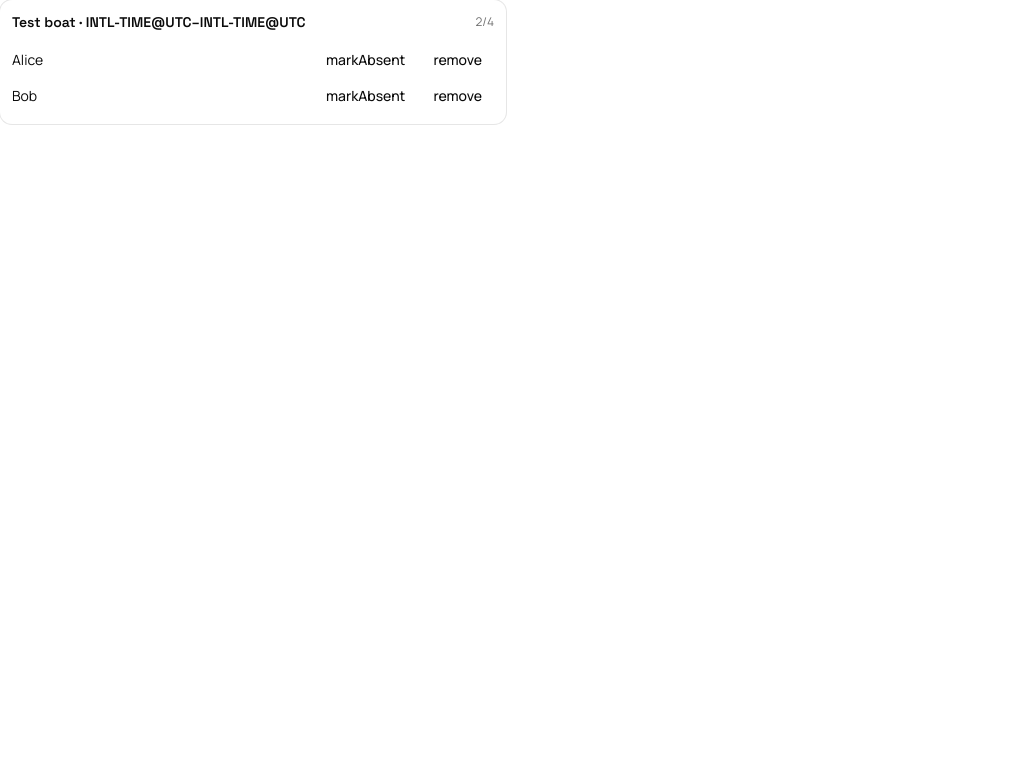
Test: BookingsRoster remove flow › keeps the removed row mounted (fade in place, not optimistic removal) while the removal is in flight
Click the button "remove" in the row of "Alice" at (458, 60), box [421,44,494,76]
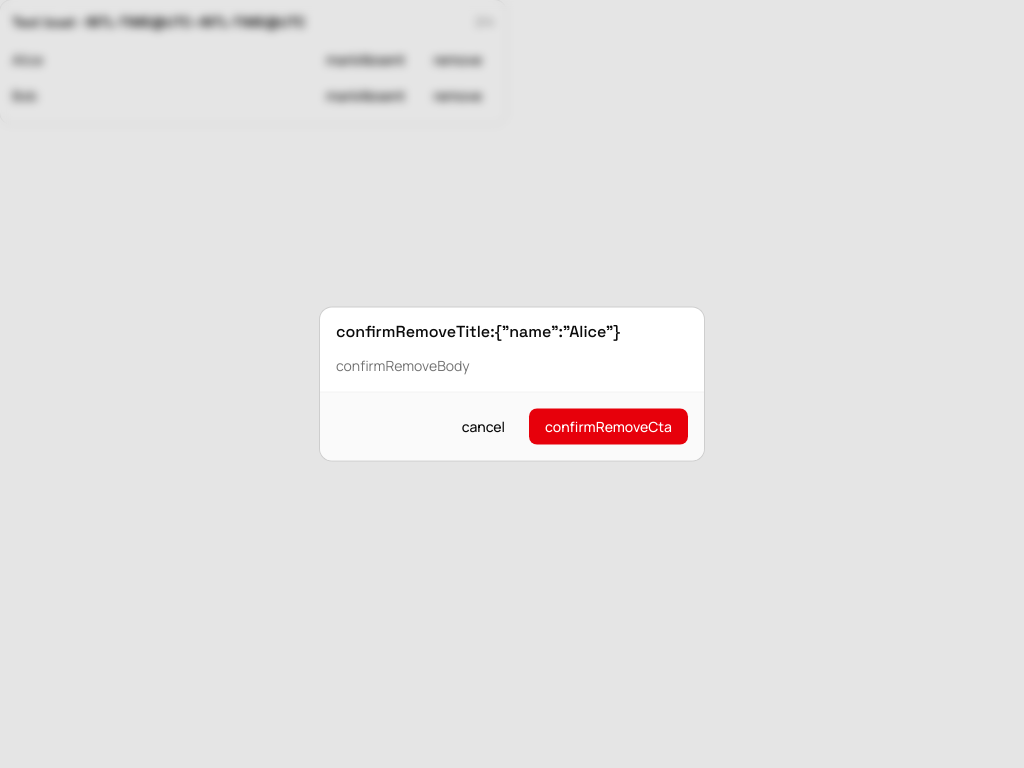
Submit the form "confirmRemoveCta", box [336,324,688,444]
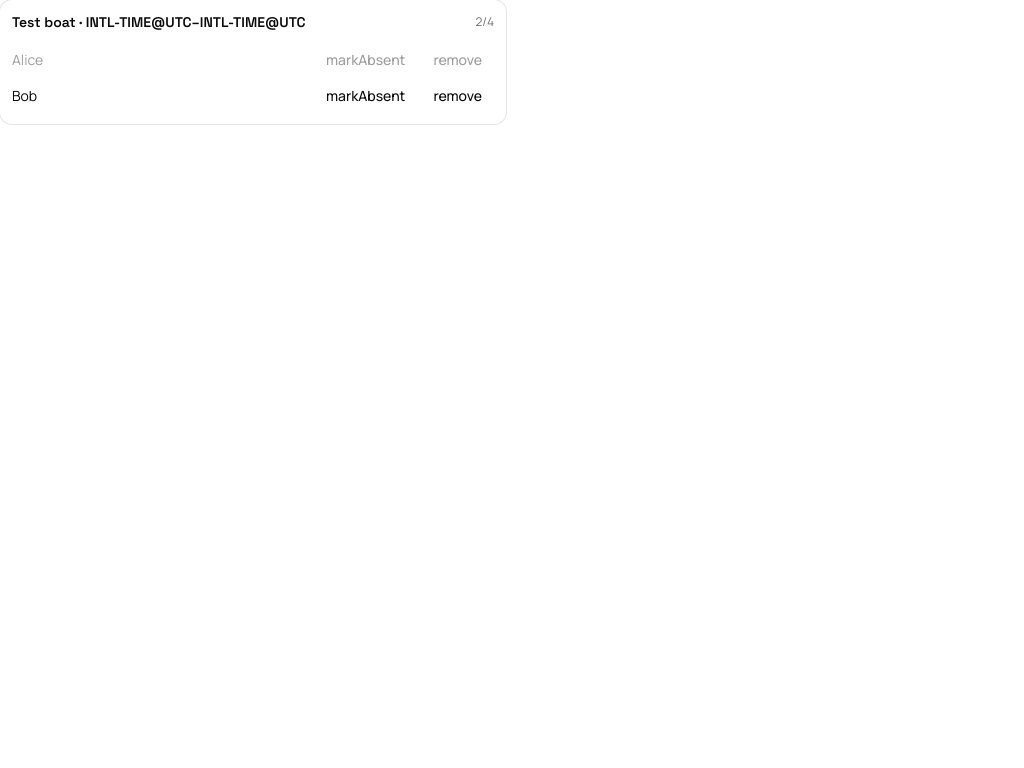
Expected: the text "Alice" is shown, [12,50,43,70]
Result: the number of buttons "remove" is 2 at [421,44,494,76]; [421,80,494,112]
